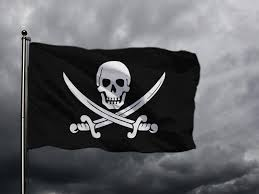Jolly Roger Flag: (26, 41, 202, 156)
